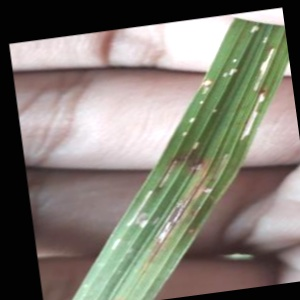Brown_Spot: (148, 192, 198, 256), (141, 151, 187, 195), (244, 45, 283, 95), (231, 95, 269, 144), (176, 151, 215, 184), (208, 147, 232, 187), (174, 220, 201, 241)
